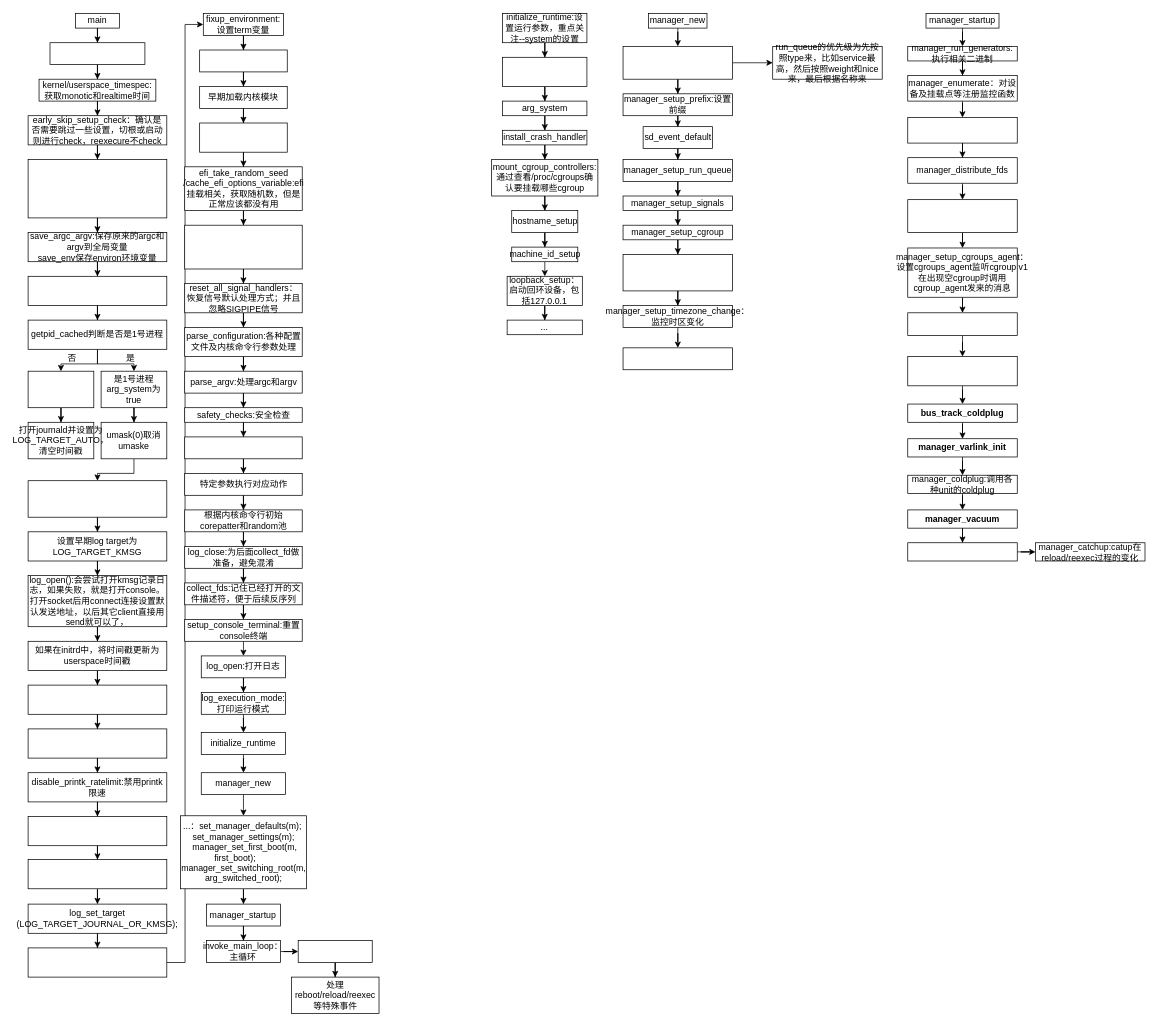
Image size: 1158x1026. Some labels were removed from this diagram. Each missing label, with the centre of its shape:
"initialize_clock:设置时间" belongs at (97,874).
"initialize_coredump:默认启动是关闭systemd-coredump功能的，后续会被coredump进程拉起后再使能" belongs at (97,962).
"initialize_security:安全功能载入 mac_selinux_init:selinux使能" belongs at (97,831).
"log_set_upgrade_syslog_to_journal将syslog定向到journald" belongs at (97,291).
"make_null_stdio:重定向标准流到/dev/null" belongs at (243,60).
"manager_deserialize：如果需要则进行反序列化" belongs at (962,130).
"manager_loop:死循环处理事务" belongs at (334,951).
"manager_ready：设置MANAGER_OK" belongs at (962,551).
"manager_setup_bus:创建/run/systemd/private用来systemd的dbus方法调用" belongs at (962,371).
"manager_setup_notify：设置/run/systemd/notify，接收子进程发来的消息" belongs at (962,216).
"manager_setup_sigchld_event_source：设置sigchild信号处理动作" belongs at (677,358).
"manager_setup_time_change:监控时间跳变，并调用unit相关时间跳变函数" belongs at (677,272).
"manager_setup_user_lookup_fd：作用待探索" belongs at (962,324).
"mount_setup:全量挂载mount_table点，并且relable相关文件" belongs at (243,137).
"pager_open:特定情况下用cat或者less等进行分页显示" belongs at (243,447).
"redirect_telinit:sysv兼容" belongs at (97,53).
"save_rlimits:保存RLIMIT_NOFILE /RLIMIT_MEMLOCK以便后续恢复" belongs at (243,246).
"update_cpu_affinity update_numa_policy" belongs at (544,72).
"修改program_invocation_short_name全局变量为systemd，同时调用prctl改名为systemd，避免被其它程序认为是init" belongs at (97,188).
"再一次log_open，避免之前一次未生效" belongs at (97,743).
"初始化manager，分配units、cgroup_unit、watch_bus/run_queue" belongs at (677,62).
"如果非reexec，执行相关准备动作 mount_setup_early:挂载早期/proc /sys /dev /sys/kernel/security" belongs at (97,699).
"是uesr进程 arg_systemd为false" belongs at (60,389).
"禁止ipc，避免journald还未启动，但是至少会打开console作为日志接收端，避免日志打印到stderr" belongs at (97,498).
